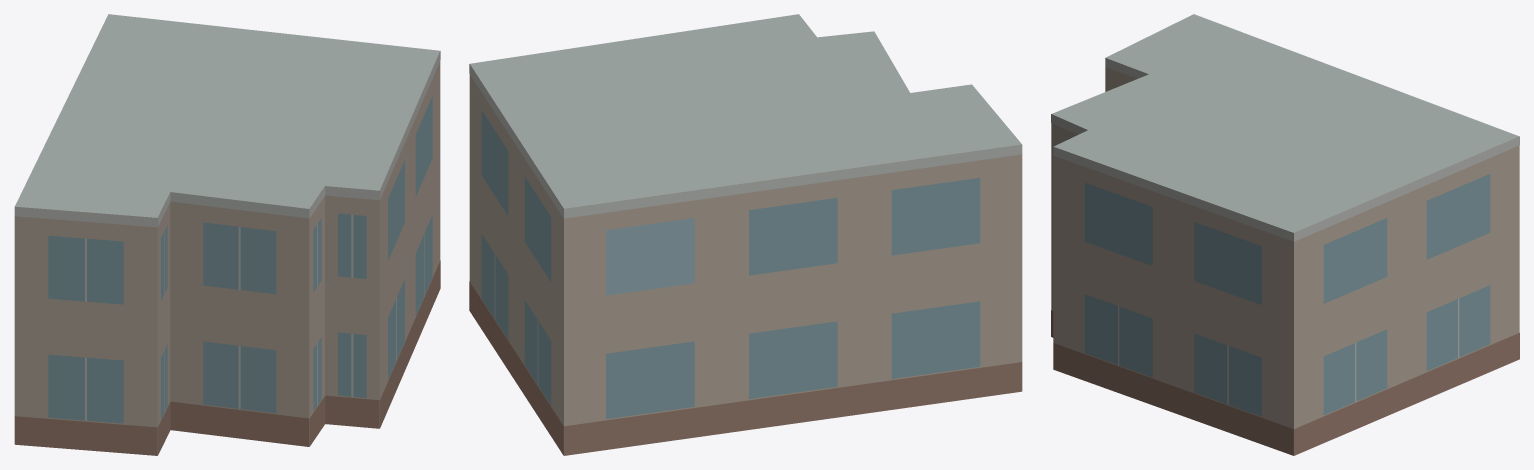
The model's file is survey-upis-32756922.glb.
The picture shows the model from 3 angles, left to right: view 1: azimuth 30°, elevation 25°; view 2: azimuth 150°, elevation 25°; view 3: azimuth 270°, elevation 25°; orthographic projection. The views are drawn at different scales.
Parts seen in each view (by area): view 1: survey-upis-32756922.tmp; view 2: survey-upis-32756922.tmp; view 3: survey-upis-32756922.tmp.
Boxes of the visible parts, bbox=[...] form: survey-upis-32756922.tmp: bbox=[14, 14, 440, 455]; survey-upis-32756922.tmp: bbox=[469, 14, 1022, 455]; survey-upis-32756922.tmp: bbox=[1051, 14, 1519, 455].
Size of the model in its own units: 12.86 by 6.1 by 11.62.
